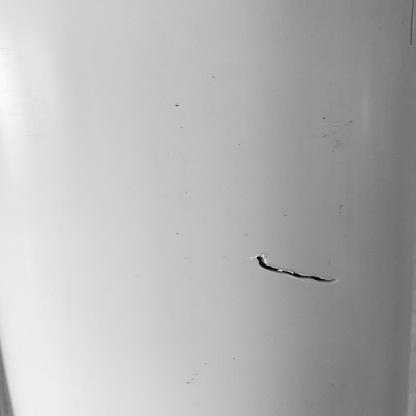fengxi: (251, 249, 344, 292)
